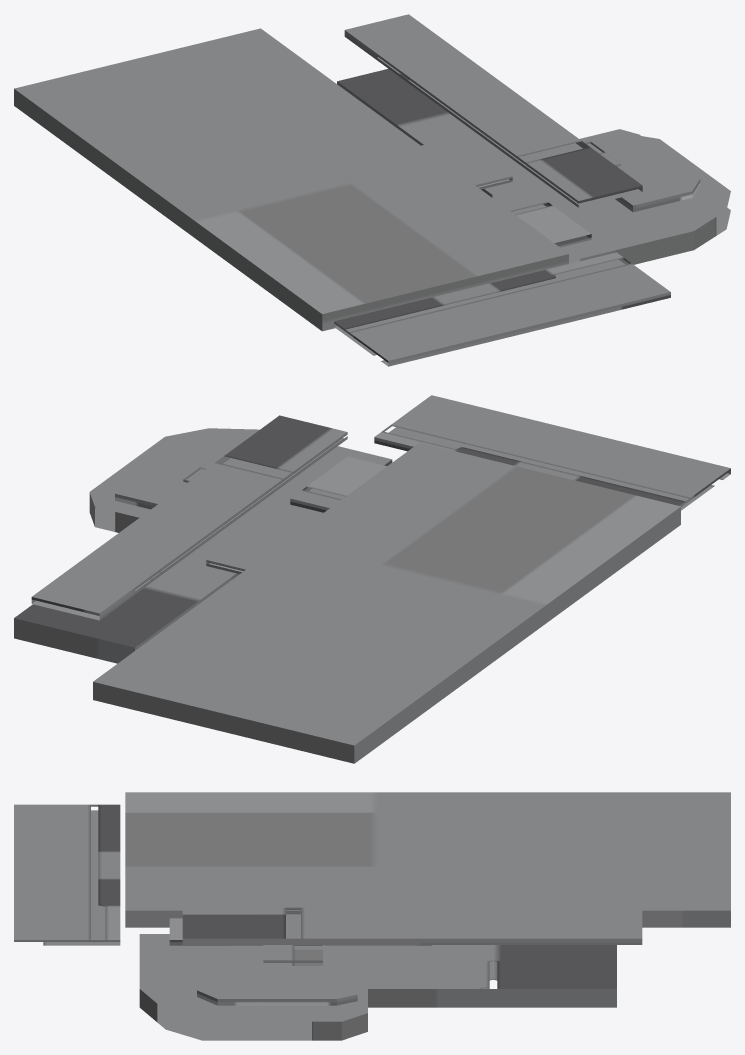
3 views of the same model, one above another, from view 1: azimuth 30°, elevation 25°; view 2: azimuth 150°, elevation 25°; view 3: azimuth 270°, elevation 25° (orthographic). The views are drawn at different scales.
Size of the model in its own units: 0.98 by 0.117 by 1.38.
